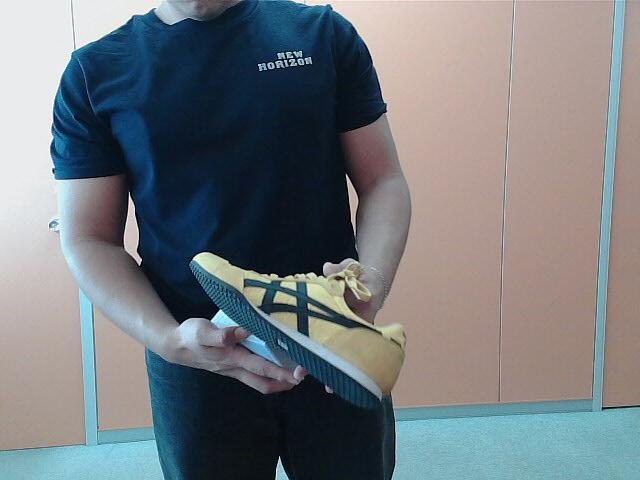Shoes: (187, 248, 403, 411)
